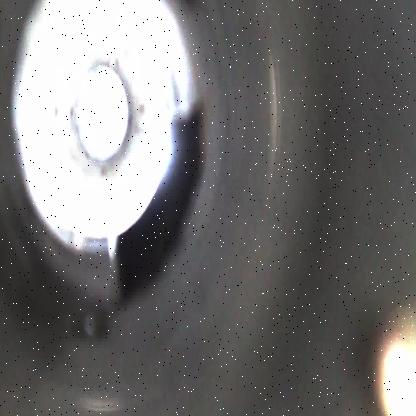Crack2: (109, 104, 208, 311)
